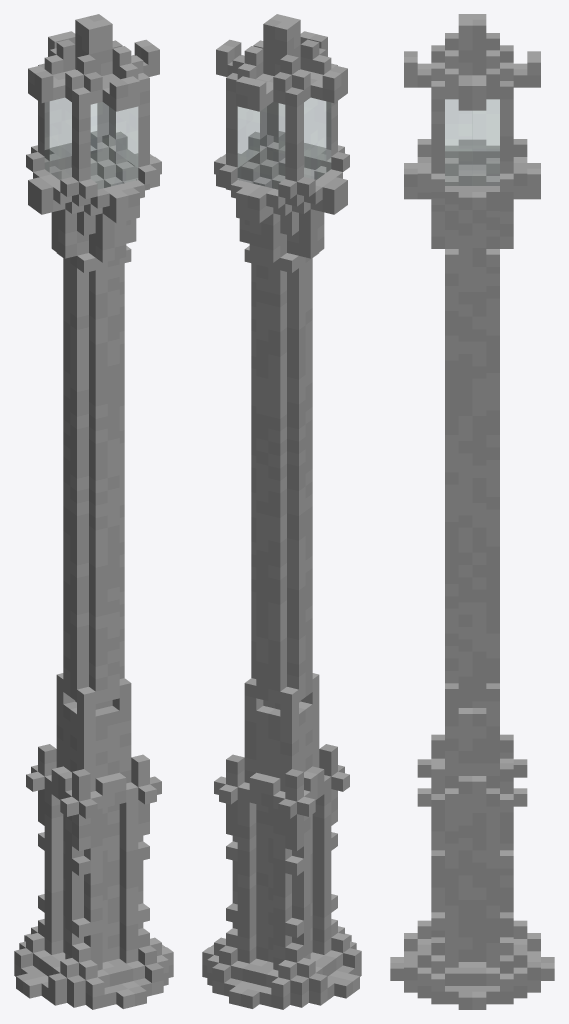
File: streetlamp.glb
3 views of the same model, side by side, from view 1: azimuth 30°, elevation 25°; view 2: azimuth 150°, elevation 25°; view 3: azimuth 270°, elevation 25° (orthographic).
Parts seen in each view (by area): view 1: model_0; view 2: model_0; view 3: model_0.
Part boxes in pixels (x1,y1,x2,y2): model_0: (14, 14, 173, 1009); model_0: (202, 14, 361, 1009); model_0: (390, 14, 554, 1009).
Size of the model in its own units: 1.2 by 7.7 by 1.2.
